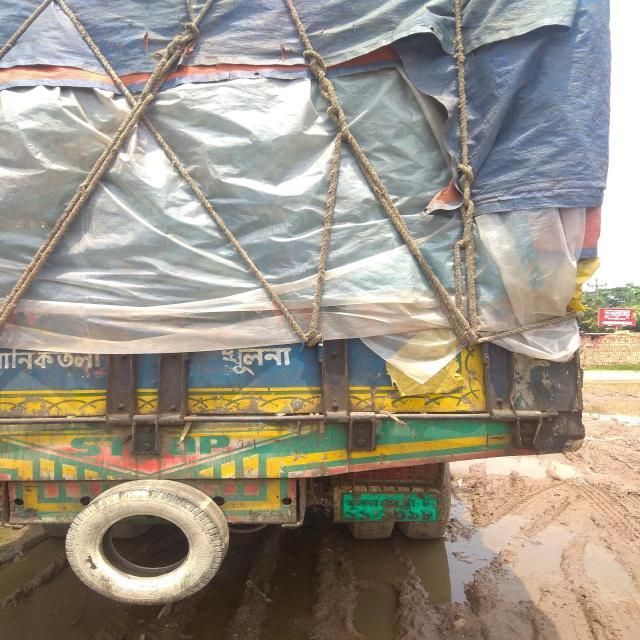numberplate: (329, 462, 450, 540), (335, 487, 441, 524)
